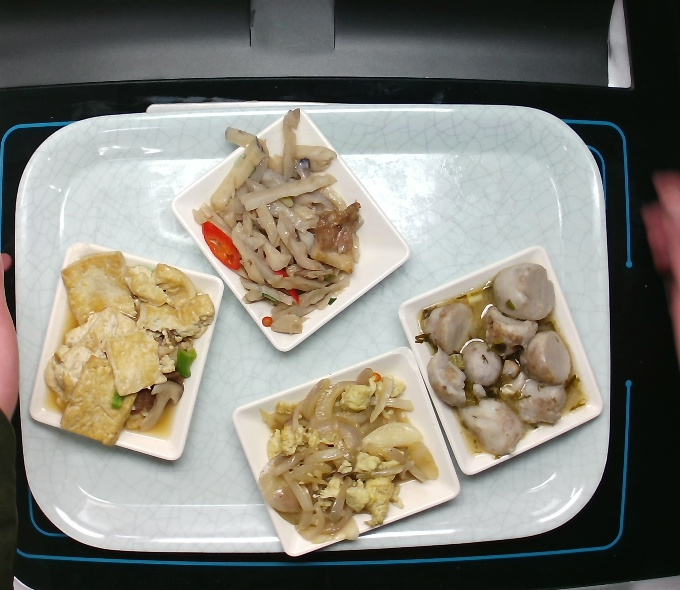wcq-JiaChangDouFu: (41, 248, 219, 454)
wcq-QingChaoOuPian: (204, 112, 361, 340)
wcq-YangCongChaoDan: (250, 359, 446, 543)
wcq-YangYu: (413, 256, 581, 463)
